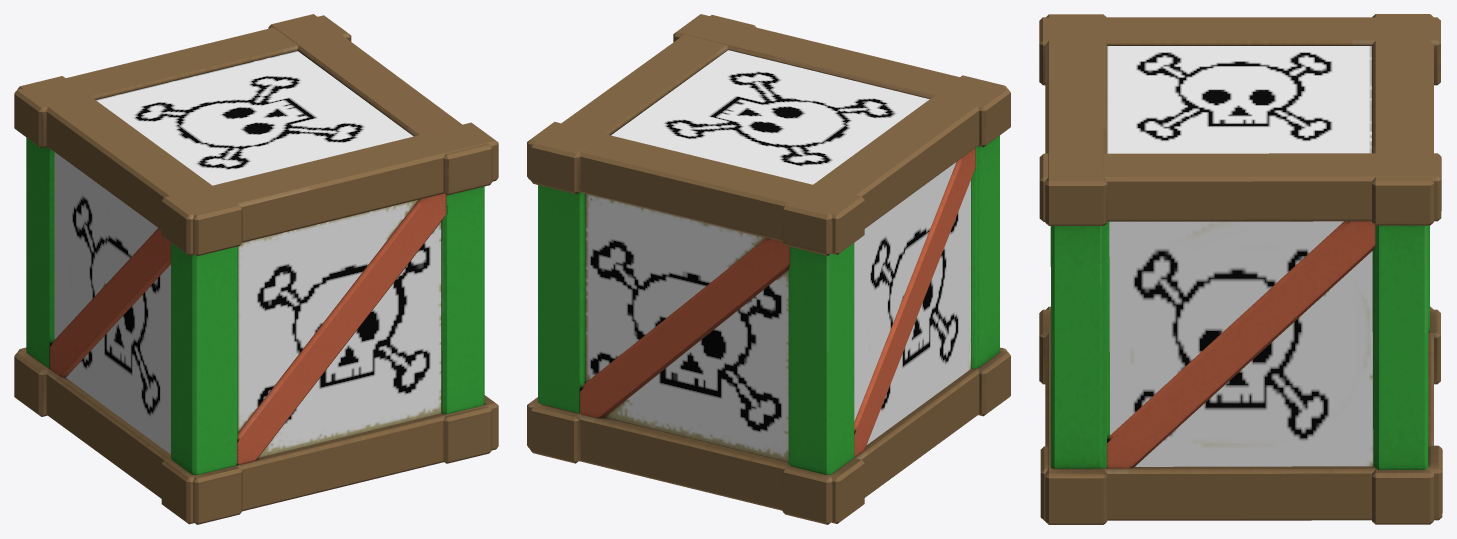
Rendered from crate.fbx.
3 views of the same model, side by side, from view 1: azimuth 30°, elevation 25°; view 2: azimuth 150°, elevation 25°; view 3: azimuth 270°, elevation 25° (orthographic). The views are drawn at different scales.
Visible parts, largest first — view 1: Cube; view 2: Cube; view 3: Cube.
Boxes of the visible parts, x1,y1,x2,y2 form: Cube: (14,14,498,524); Cube: (527,14,1010,524); Cube: (1039,14,1442,524).
Bounding box in the file's own units: 221 × 209 × 221.
Materials: 1 (1 with a texture image).
